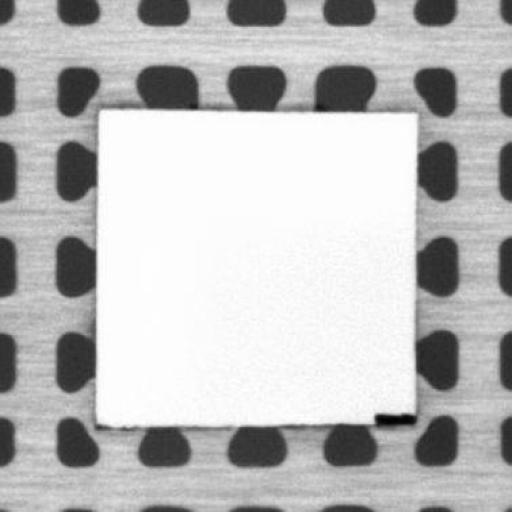DIE_BROKEN: (371, 408, 416, 424)
